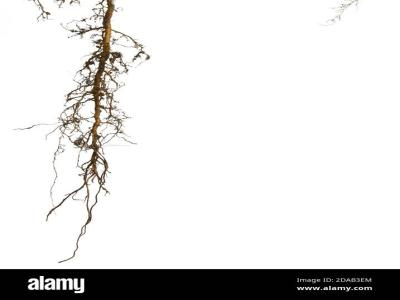Root: (91, 0, 114, 164)
